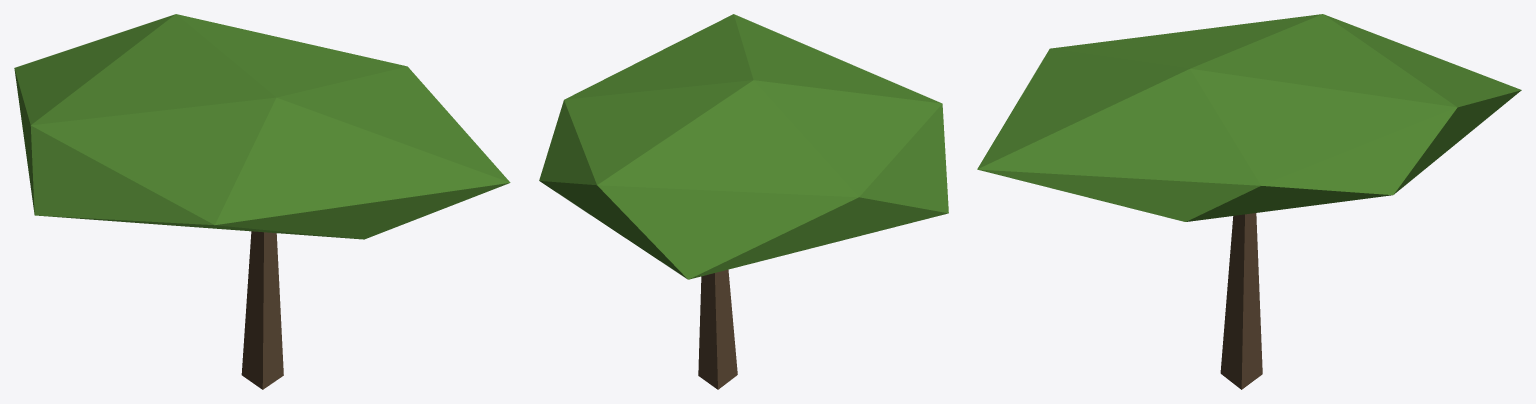
The model's file is umbrella_a_lod2.glb.
The picture shows the model from 3 angles, left to right: view 1: azimuth 30°, elevation 25°; view 2: azimuth 150°, elevation 25°; view 3: azimuth 270°, elevation 25°; orthographic projection. The views are drawn at different scales.
Visible parts, largest first — view 1: umbrella; view 2: umbrella; view 3: umbrella.
Part boxes in pixels (x1,y1,x2,y2): umbrella: (14,14,510,389); umbrella: (539,14,948,389); umbrella: (977,14,1521,389).
Bounding box in the file's own units: 13.25 × 9.66 × 15.65.
